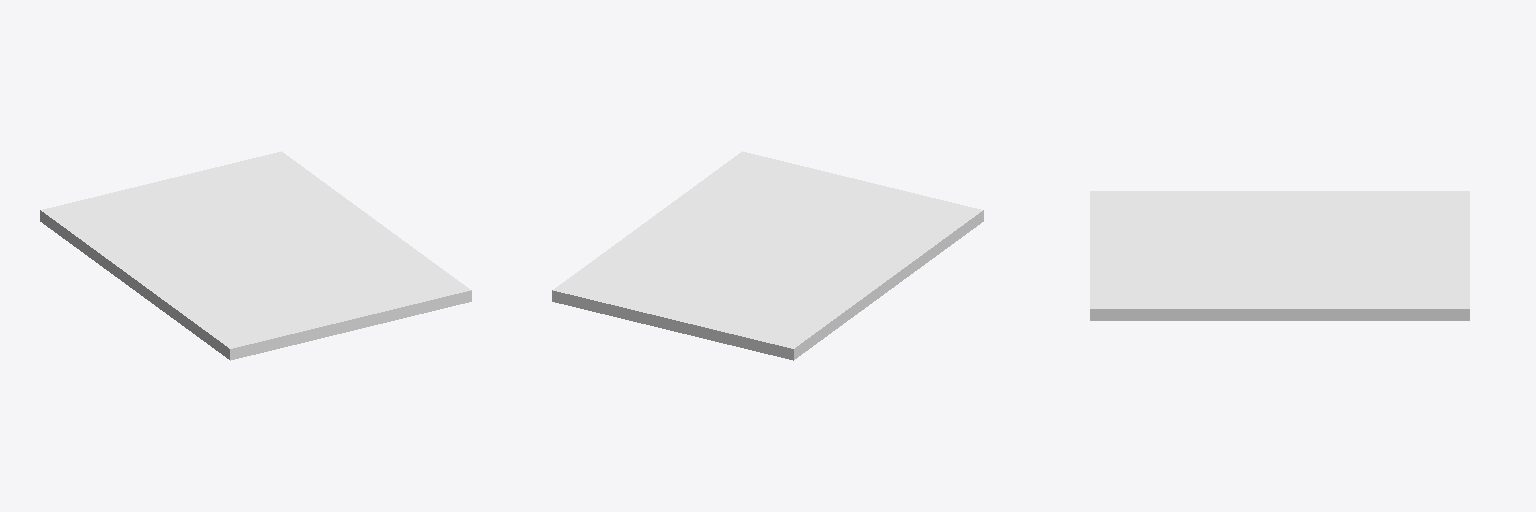
The model's file is RaodP3.obj.
3 renders of one model, left to right at view 1: azimuth 30°, elevation 25°; view 2: azimuth 150°, elevation 25°; view 3: azimuth 270°, elevation 25°, orthographic.
Parts seen in each view (by area): view 1: object 1; view 2: object 1; view 3: object 1.
Boxes of the visible parts, box(x1,y1,x2,y2) form: object 1: box(40, 151, 471, 360); object 1: box(552, 151, 983, 360); object 1: box(1090, 191, 1469, 320).
Size of the model in its own units: 2.2 by 0.1 by 3.